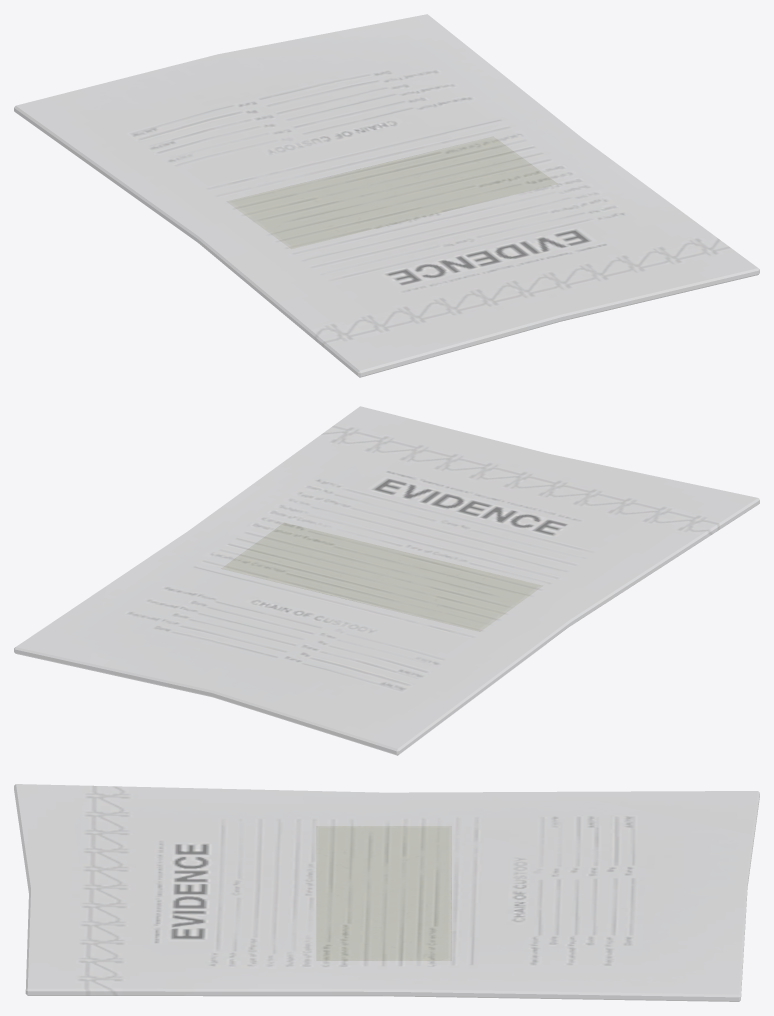
File: SM_Evidence_Bag_Small.glb
3 views of the same model, one above another, from view 1: azimuth 30°, elevation 25°; view 2: azimuth 150°, elevation 25°; view 3: azimuth 270°, elevation 25° (orthographic). The views are drawn at different scales.
Visible parts, largest first — view 1: SM_Evidence_Bag_Small; view 2: SM_Evidence_Bag_Small; view 3: SM_Evidence_Bag_Small.
Part boxes in pixels (left/top/right/bottom): SM_Evidence_Bag_Small: left=14, top=14, right=759, bottom=377; SM_Evidence_Bag_Small: left=14, top=406, right=759, bottom=755; SM_Evidence_Bag_Small: left=14, top=784, right=759, bottom=1001.
Bounding box in the file's own units: 0.1103 × 0.00373 × 0.1638.
2 materials, 2 textured.
